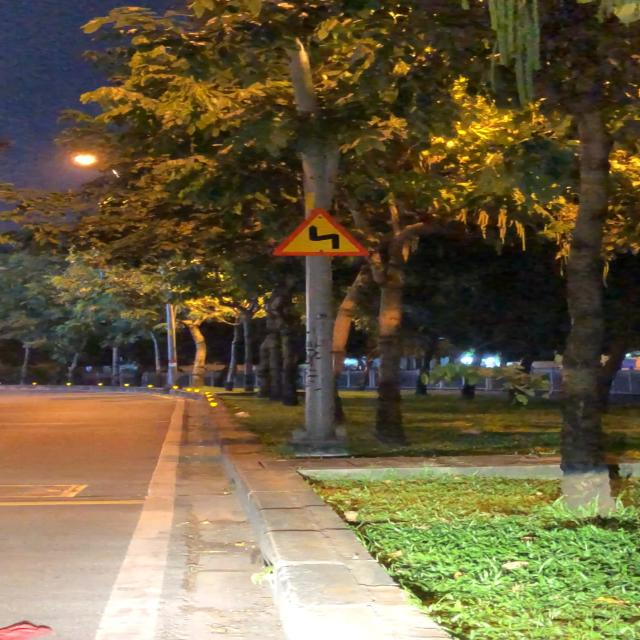Bien bao nhieu cho ngoat nguy hiem lien tiep: (268, 207, 372, 257)
